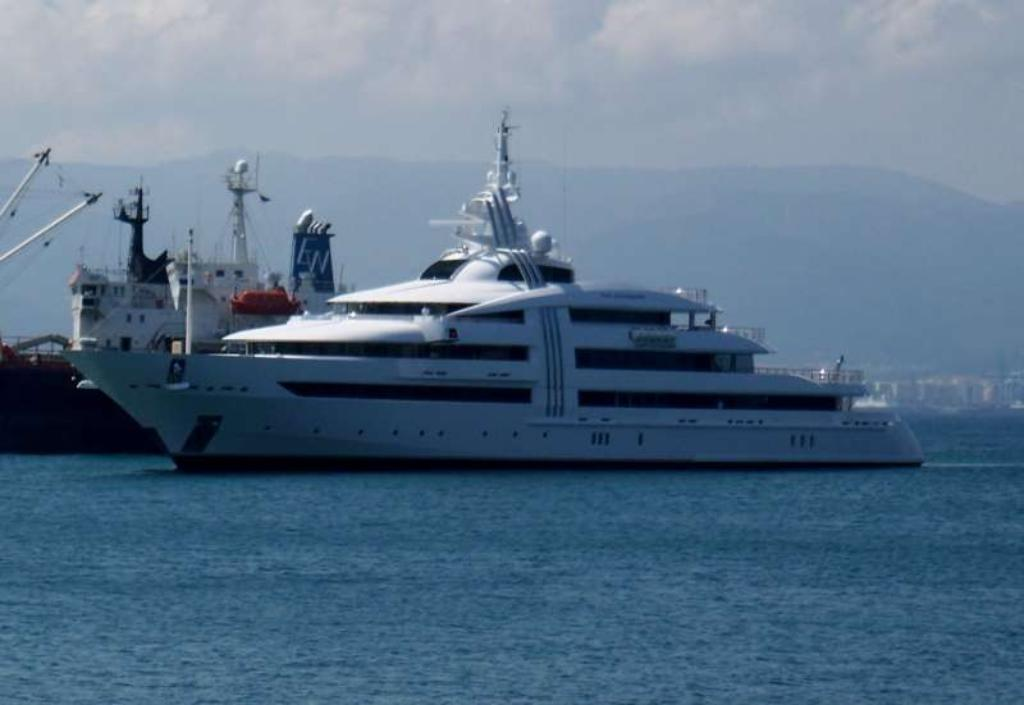PassengerShip: (58, 101, 920, 463)
